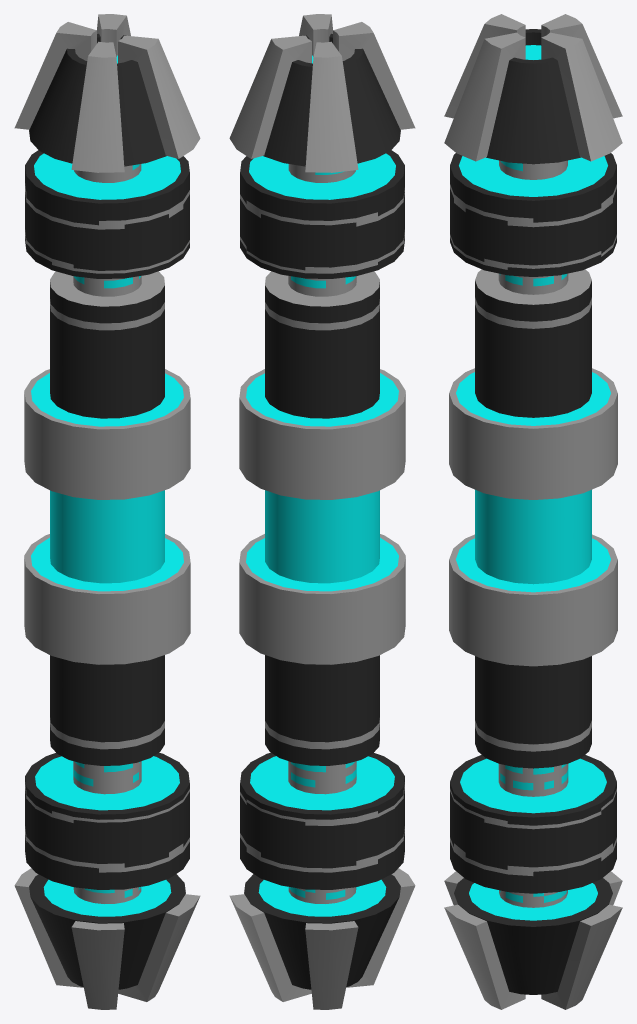
The model's file is Junction_01.fbx.
The picture shows the model from 3 angles, left to right: view 1: azimuth 30°, elevation 25°; view 2: azimuth 150°, elevation 25°; view 3: azimuth 270°, elevation 25°; orthographic projection.
Parts seen in each view (by area): view 1: Junction_01; view 2: Junction_01; view 3: Junction_01.
Boxes of the visible parts, x1,y1,x2,y2 form: Junction_01: [14, 14, 200, 1009]; Junction_01: [229, 14, 415, 1009]; Junction_01: [444, 14, 622, 1009].
Size of the model in its own units: 62.88 by 395 by 66.54.
